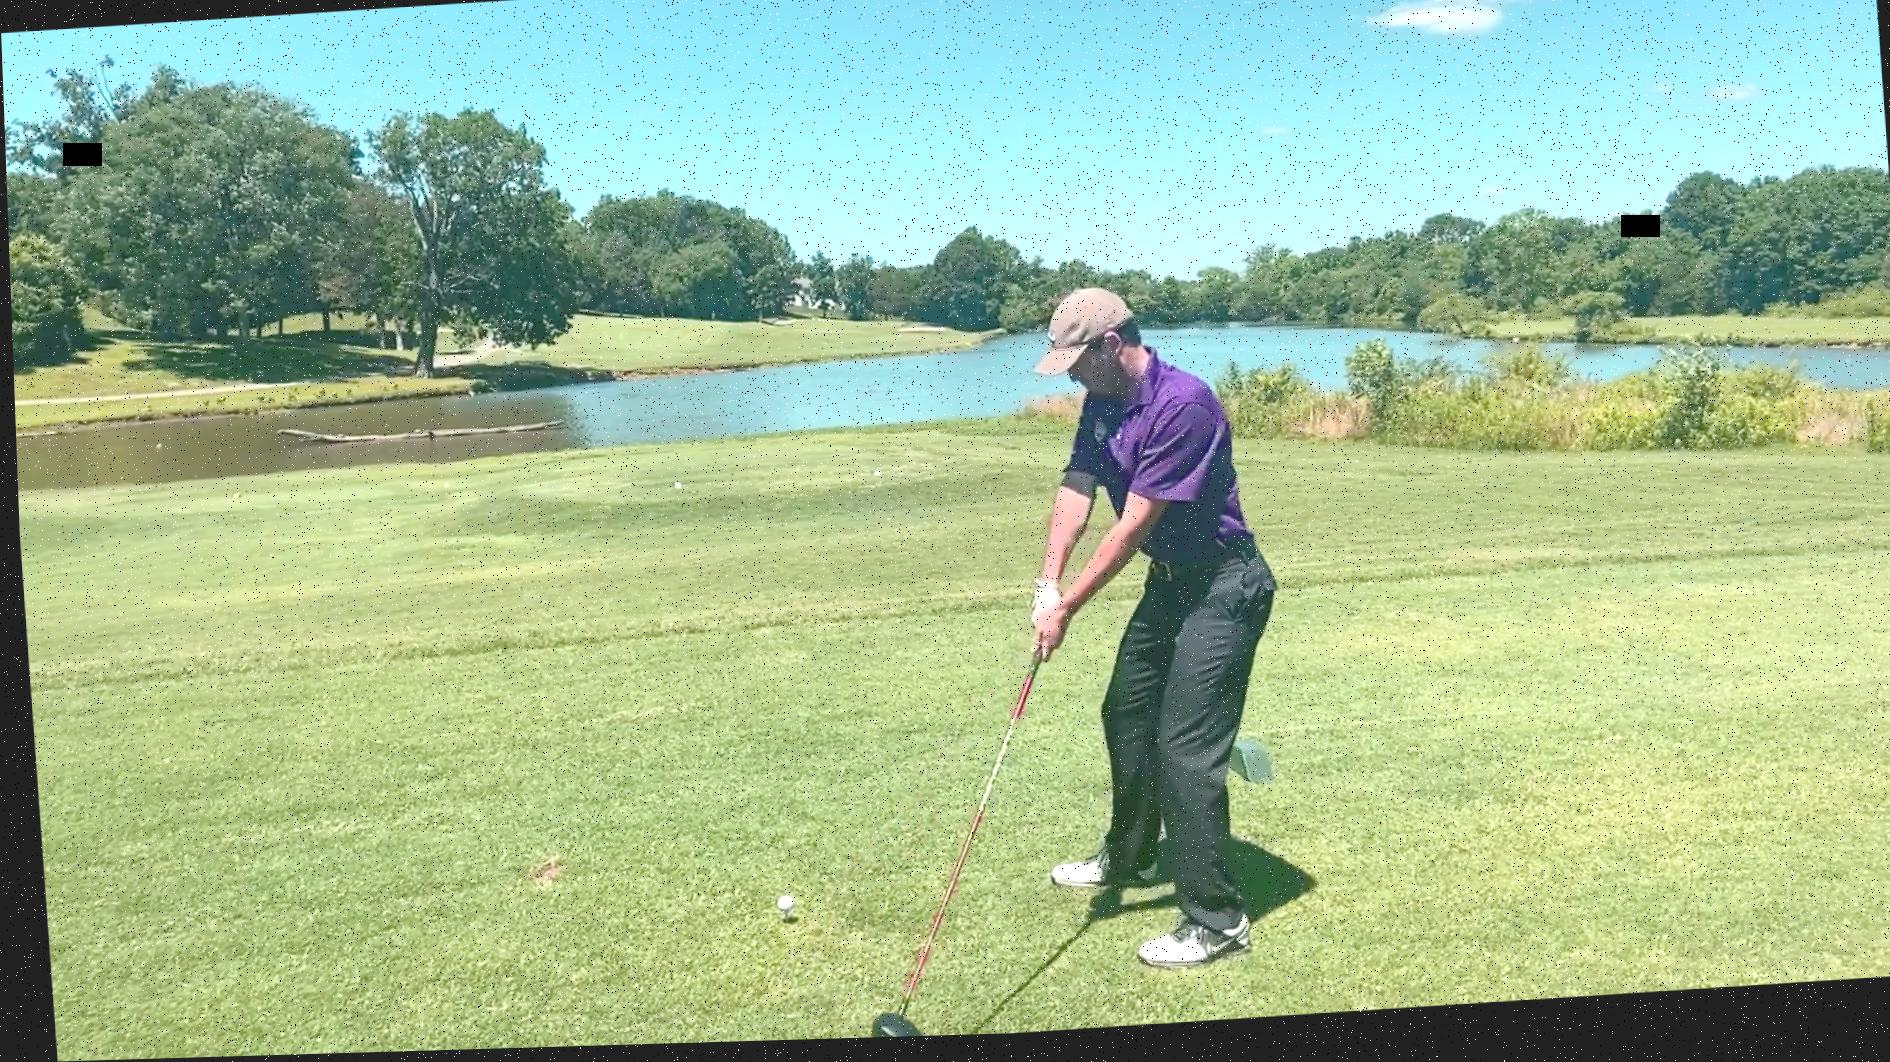ClubHead: (845, 1000, 923, 1043)
GolfBall: (767, 897, 787, 917)
